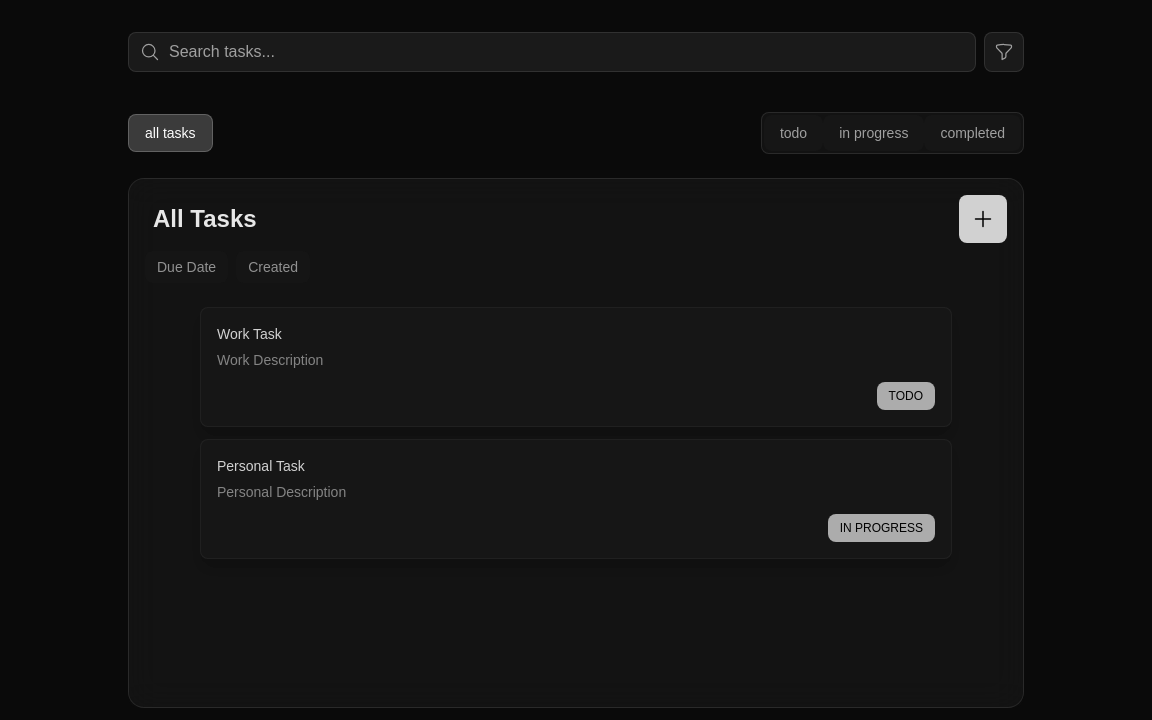
Test: TaskBoard › Filtering › filters by search text
Type "Work" into the field with placeholder "Search tasks..." at (552,52), box [128,32,976,72]
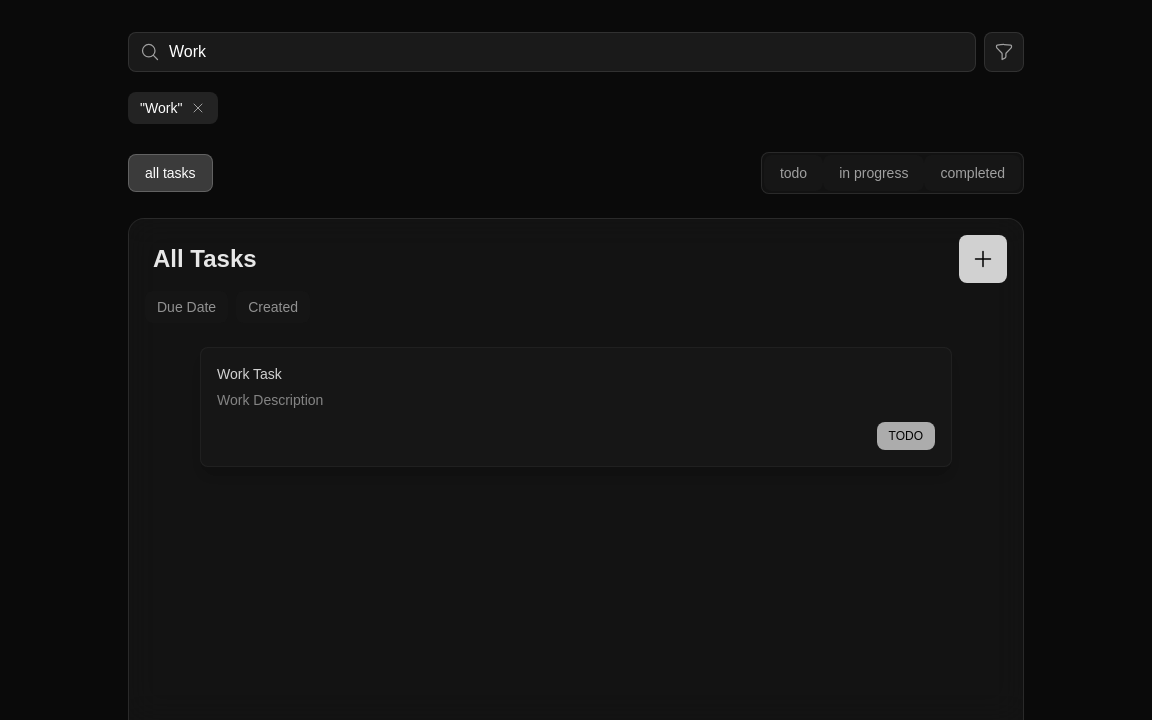
Expected: the heading "Work Task" is shown, [217,366,282,382]
Expected: the heading "Personal Task" is gone
